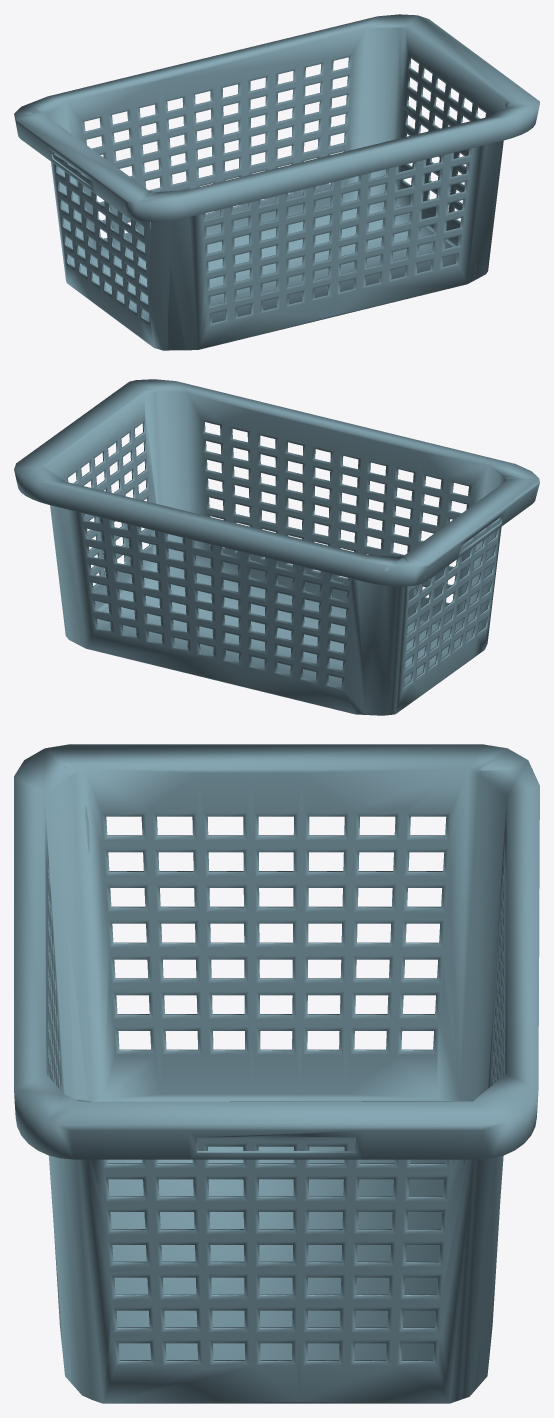
Rendered from plastic_laundry_basket_free.glb.
3 views of the same model, one above another, from view 1: azimuth 30°, elevation 25°; view 2: azimuth 150°, elevation 25°; view 3: azimuth 270°, elevation 25° (orthographic). The views are drawn at different scales.
Visible parts, largest first — view 1: Plane_Material.001_0; view 2: Plane_Material.001_0; view 3: Plane_Material.001_0.
Part boxes in pixels (<box>): Plane_Material.001_0: <box>14,14,539,350</box>; Plane_Material.001_0: <box>14,379,539,715</box>; Plane_Material.001_0: <box>14,744,539,1403</box>.
Size of the model in its own units: 1.2 by 0.4707 by 0.7001.
